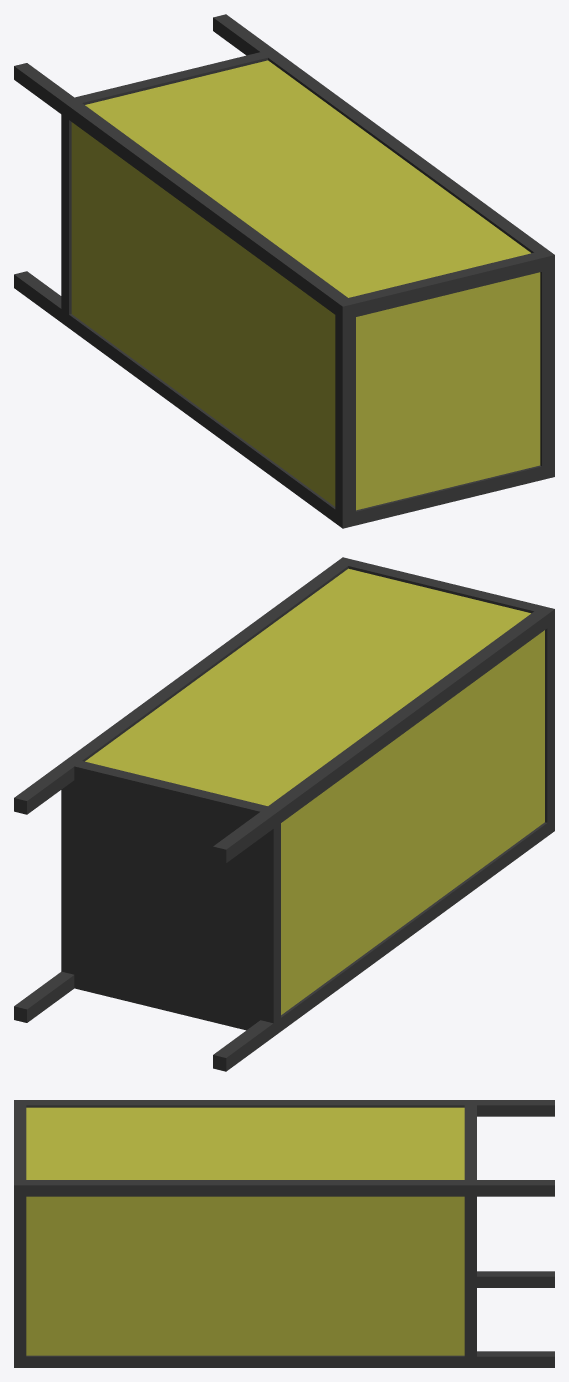
Rendered from shelf-lowpoly-draco.glb.
3 views of the same model, one above another, from view 1: azimuth 30°, elevation 25°; view 2: azimuth 150°, elevation 25°; view 3: azimuth 270°, elevation 25° (orthographic). The views are drawn at different scales.
Visible parts, largest first — view 1: mesh_id4.005; view 2: mesh_id4.005; view 3: mesh_id4.005.
Boxes of the visible parts, x1=… form: mesh_id4.005: x1=14, y1=14, x2=554, y2=528; mesh_id4.005: x1=14, y1=557, x2=554, y2=1071; mesh_id4.005: x1=14, y1=1100, x2=554, y2=1367.
Size of the model in its own units: 0.8286 by 0.8286 by 2.22.
